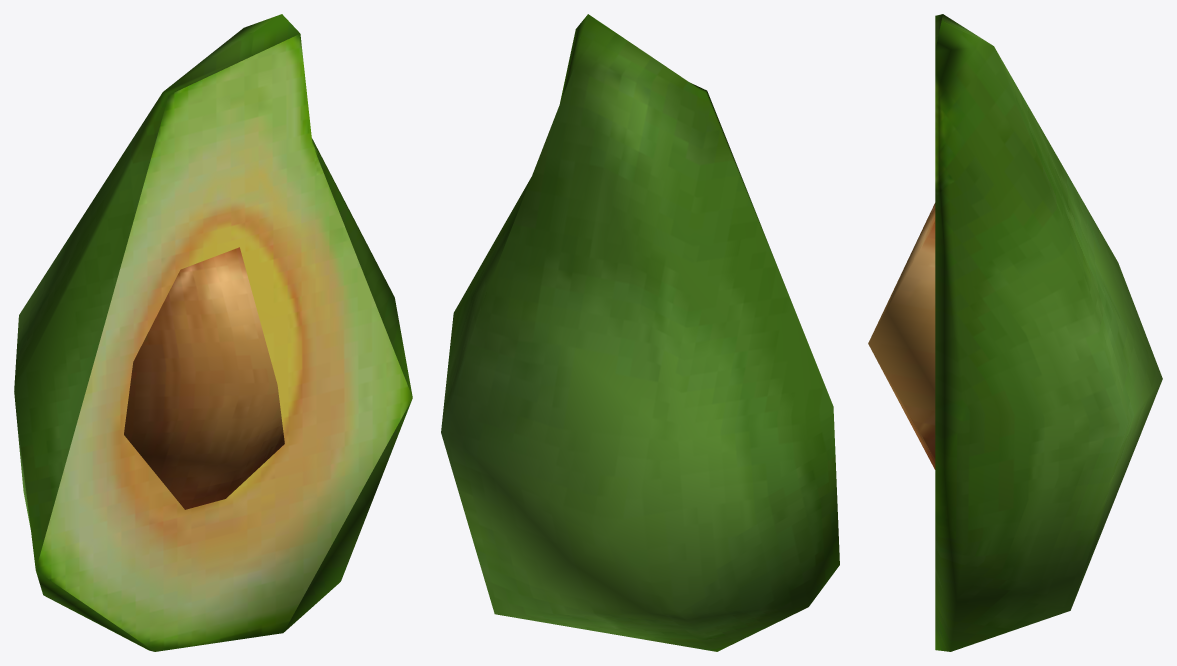
3 renders of one model, left to right at view 1: azimuth 30°, elevation 25°; view 2: azimuth 150°, elevation 25°; view 3: azimuth 270°, elevation 25°, orthographic. The views are drawn at different scales.
Parts seen in each view (by area): view 1: Avocado; view 2: Avocado; view 3: Avocado.
Boxes of the visible parts, x1=… form: Avocado: x1=14, y1=14, x2=412, y2=651; Avocado: x1=441, y1=14, x2=839, y2=651; Avocado: x1=868, y1=14, x2=1162, y2=651.
Size of the model in its own units: 0.0408 by 0.0624 by 0.0265.
Materials: 1 (1 with a texture image).
